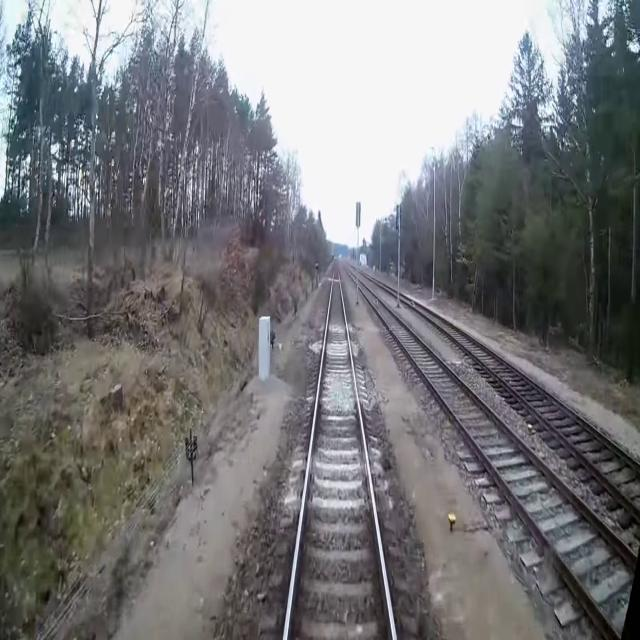rail-track: (358, 279, 637, 632), (399, 295, 640, 503), (287, 271, 392, 639), (346, 265, 356, 280)
